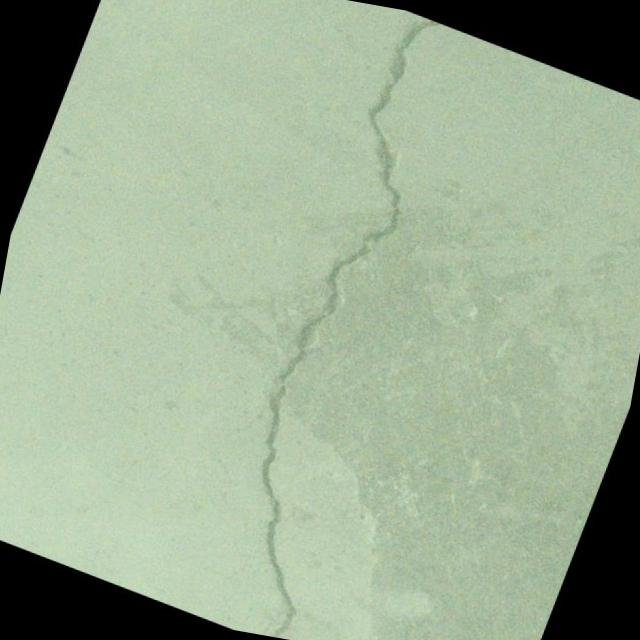crack: (155, 0, 515, 640), (497, 183, 640, 277), (49, 424, 158, 544), (202, 486, 262, 560), (206, 453, 242, 486)
